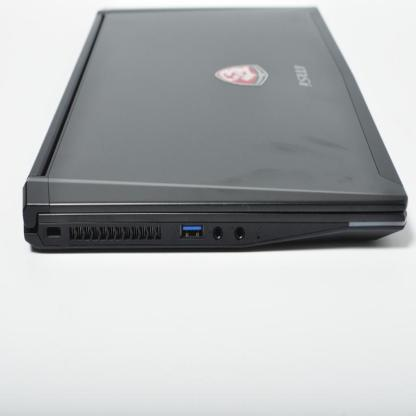board: (5, 0, 415, 253)
